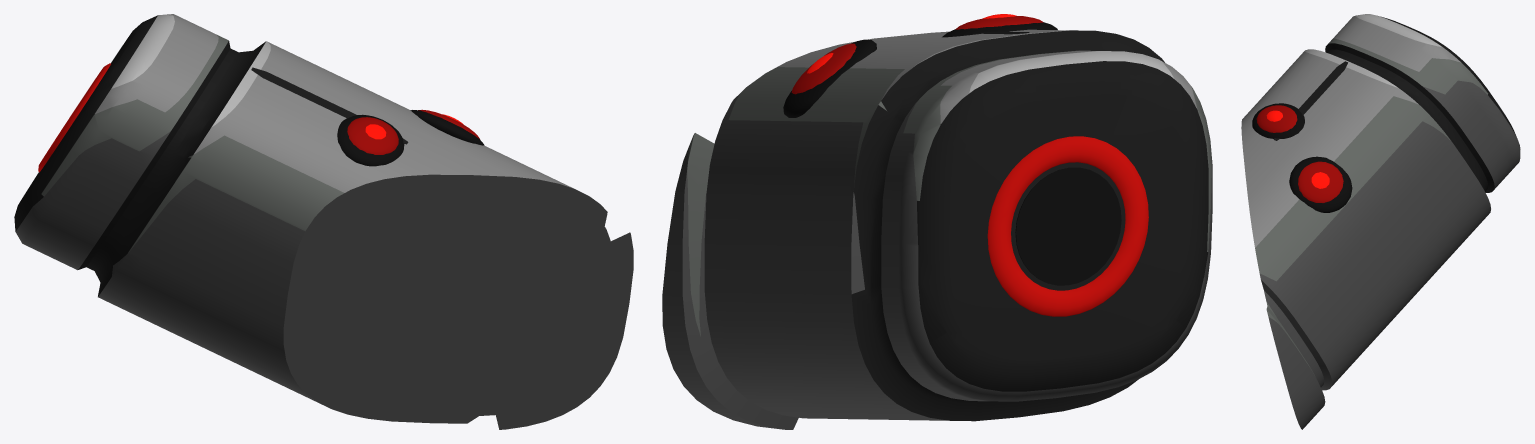
File: field_gun_barrel.glb
The picture shows the model from 3 angles, left to right: view 1: azimuth 30°, elevation 25°; view 2: azimuth 150°, elevation 25°; view 3: azimuth 270°, elevation 25°; orthographic projection. The views are drawn at different scales.
Parts seen in each view (by area): view 1: field_gun_barrel; view 2: field_gun_barrel; view 3: field_gun_barrel.
Boxes of the visible parts, x1,y1,x2,y2 form: field_gun_barrel: (14, 14, 633, 429); field_gun_barrel: (662, 14, 1212, 429); field_gun_barrel: (1241, 14, 1520, 429).
Size of the model in its own units: 24.52 by 19.03 by 16.63.
